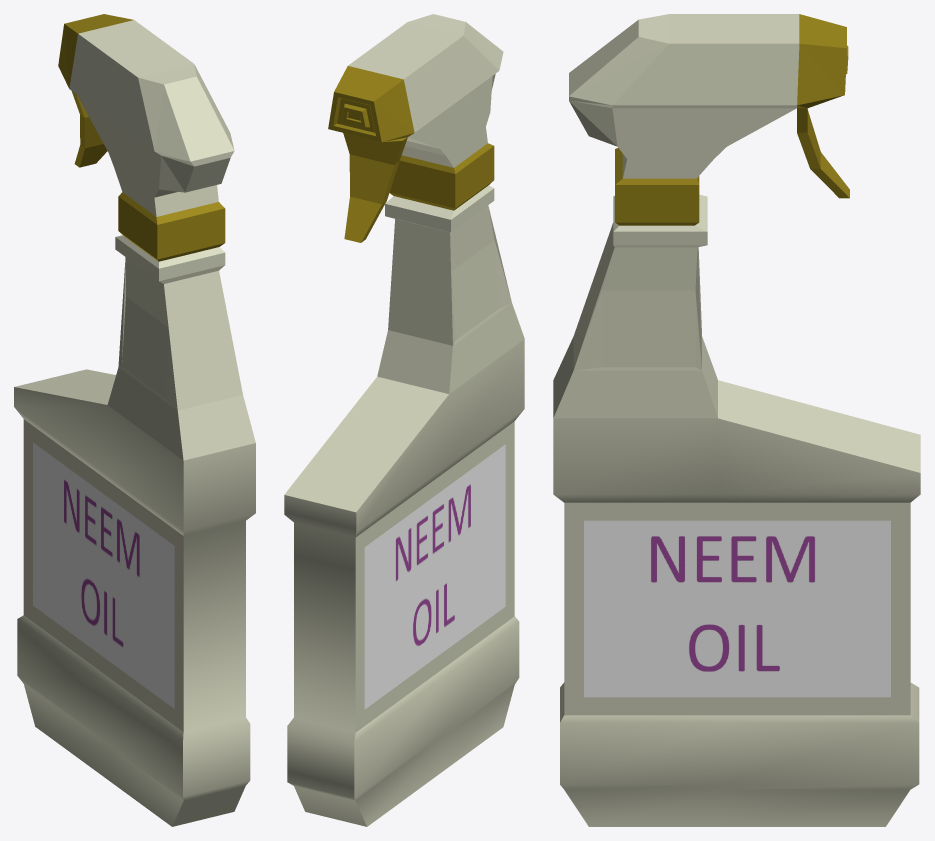
Rendered from NeemOil.fbx.
The picture shows the model from 3 angles, left to right: view 1: azimuth 30°, elevation 25°; view 2: azimuth 150°, elevation 25°; view 3: azimuth 270°, elevation 25°; orthographic projection. The views are drawn at different scales.
Parts seen in each view (by area): view 1: Box001; view 2: Box001; view 3: Box001.
Part boxes in pixels (x1,y1,x2,y2): Box001: (14,14,255,826); Box001: (284,14,524,826); Box001: (553,14,920,826).
Size of the model in its own units: 62.45 by 568 by 242.
